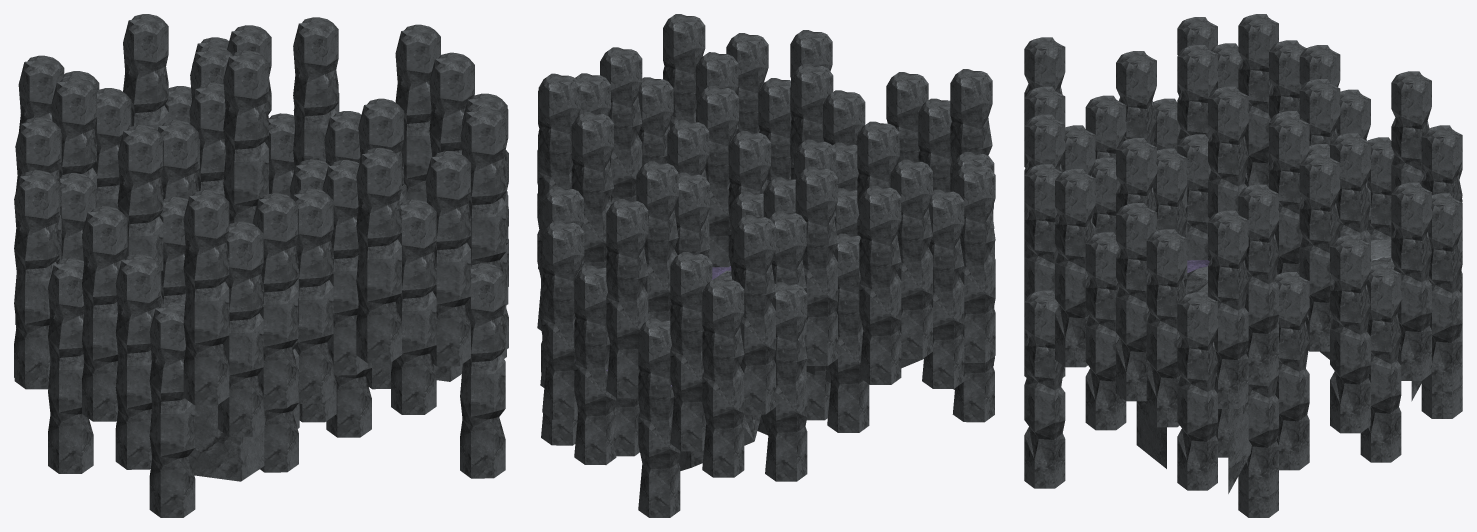
Rendered from Dragonfly_Basalt.fbx.
The picture shows the model from 3 angles, left to right: view 1: azimuth 30°, elevation 25°; view 2: azimuth 150°, elevation 25°; view 3: azimuth 270°, elevation 25°; orthographic projection. The views are drawn at different scales.
Visible parts, largest first — view 1: Basalt; view 2: Basalt; view 3: Basalt.
Boxes of the visible parts, bbox=[...] form: Basalt: bbox=[14, 14, 508, 517]; Basalt: bbox=[537, 14, 995, 517]; Basalt: bbox=[1024, 14, 1462, 517].
Size of the model in its own units: 50.4 by 38 by 43.
